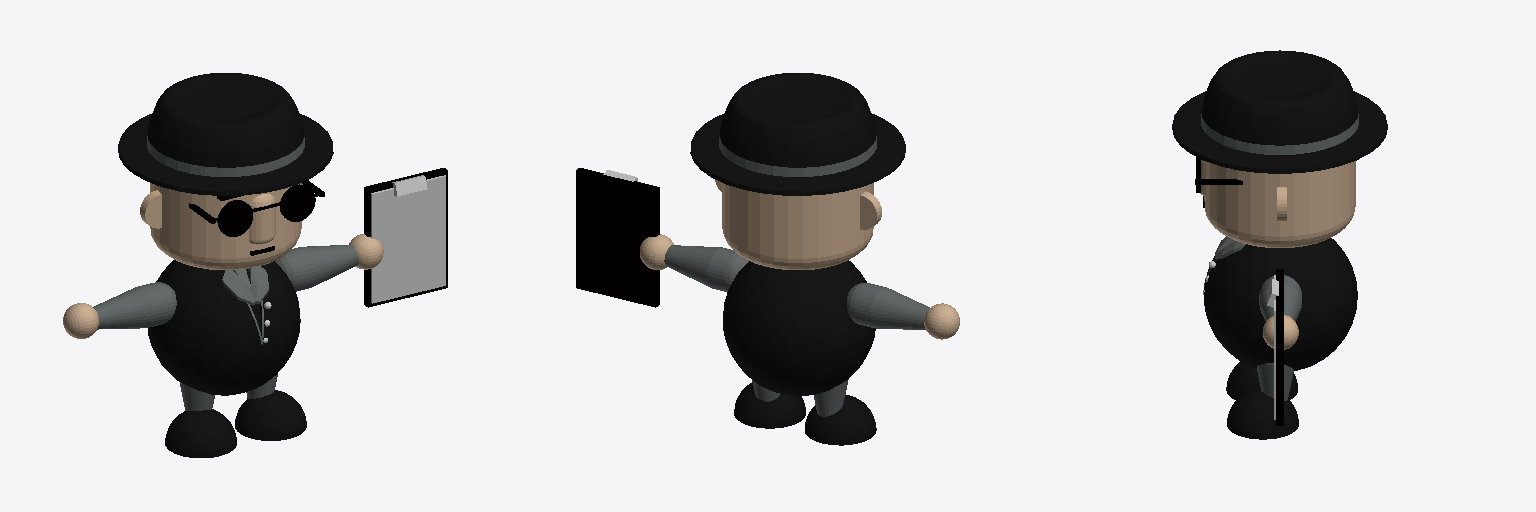
The model's file is Inspector.obj.
3 views of the same model, side by side, from view 1: azimuth 30°, elevation 25°; view 2: azimuth 150°, elevation 25°; view 3: azimuth 270°, elevation 25° (orthographic).
Visible parts, largest first — view 1: Cylinder.005_Cylinder.008, Sphere.001_Sphere.007, clipboard_Cube.001, Cylinder.007_Cylinder.010, Cylinder.009_Cylinder.012, Cylinder.006_Cylinder.009, Cylinder.008_Cylinder.011; view 2: Cylinder.005_Cylinder.008, Sphere.001_Sphere.007, clipboard_Cube.001, Cylinder.007_Cylinder.010, Cylinder.006_Cylinder.009, Cylinder.009_Cylinder.012, Cylinder.008_Cylinder.011; view 3: Cylinder.005_Cylinder.008, Sphere.001_Sphere.007, Cylinder.008_Cylinder.011, clipboard_Cube.001, Cylinder.006_Cylinder.009, Cylinder.009_Cylinder.012.
Part boxes in pixels (x1,y1,x2,y2): Cylinder.005_Cylinder.008: (118,73,333,269); Sphere.001_Sphere.007: (148,260,300,395); clipboard_Cube.001: (364,168,447,307); Cylinder.007_Cylinder.010: (63,282,176,338); Cylinder.009_Cylinder.012: (165,382,236,457); Cylinder.006_Cylinder.009: (275,234,383,291); Cylinder.008_Cylinder.011: (235,374,306,440); Cylinder.005_Cylinder.008: (690,73,905,269); Sphere.001_Sphere.007: (723,260,875,395); clipboard_Cube.001: (576,168,659,307); Cylinder.007_Cylinder.010: (847,283,959,339); Cylinder.006_Cylinder.009: (640,234,748,291); Cylinder.009_Cylinder.012: (805,379,876,445); Cylinder.008_Cylinder.011: (734,380,805,428); Cylinder.005_Cylinder.008: (1172,50,1387,247); Sphere.001_Sphere.007: (1203,236,1357,370); Cylinder.008_Cylinder.011: (1227,363,1298,439); clipboard_Cube.001: (1267,269,1283,425); Cylinder.006_Cylinder.009: (1259,275,1301,349); Cylinder.009_Cylinder.012: (1226,361,1297,399).
Bounding box in the file's own units: 3.65 × 3.03 × 1.79.